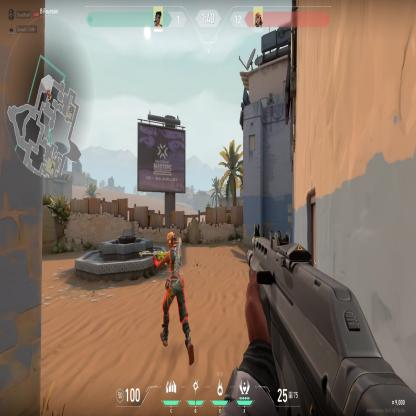enemy: (152, 229, 197, 369)
